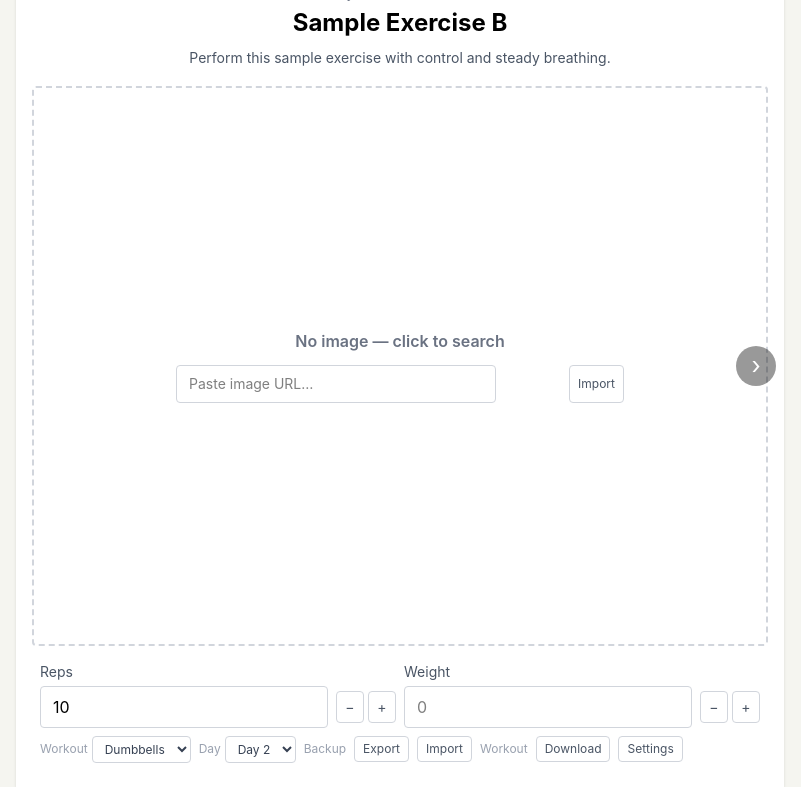
Scenario: App › Settings › opens the settings page from the workout screen
(page scrolled)
Click the button "Settings": x=651, y=749 [618,736,683,762]
(page scrolled)
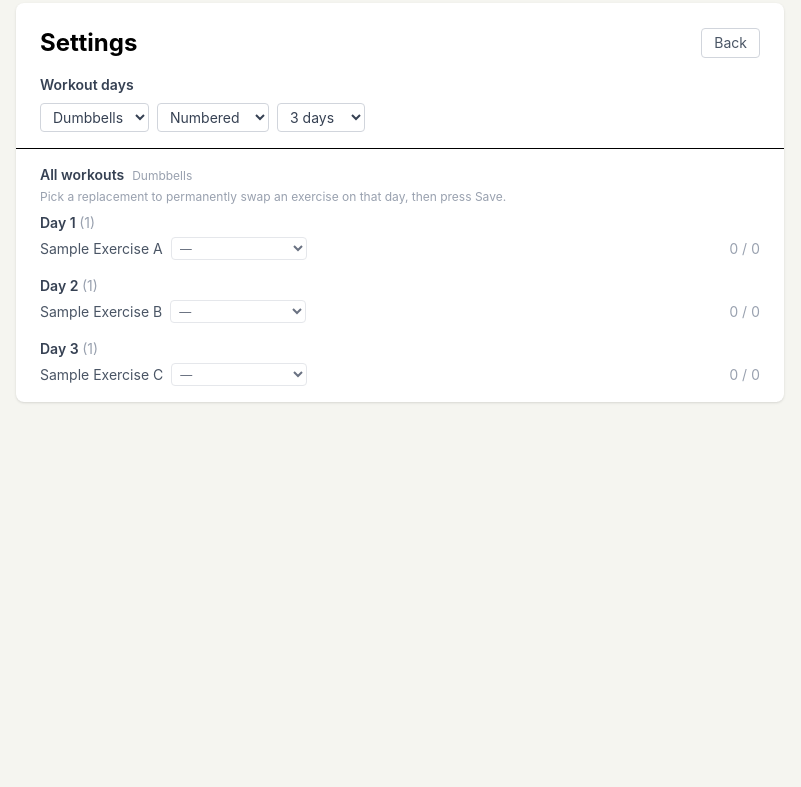
Expected: the heading "Settings" is shown, [40,27,137,59]
Expected: the heading "All workouts" is shown, [40,165,124,185]
